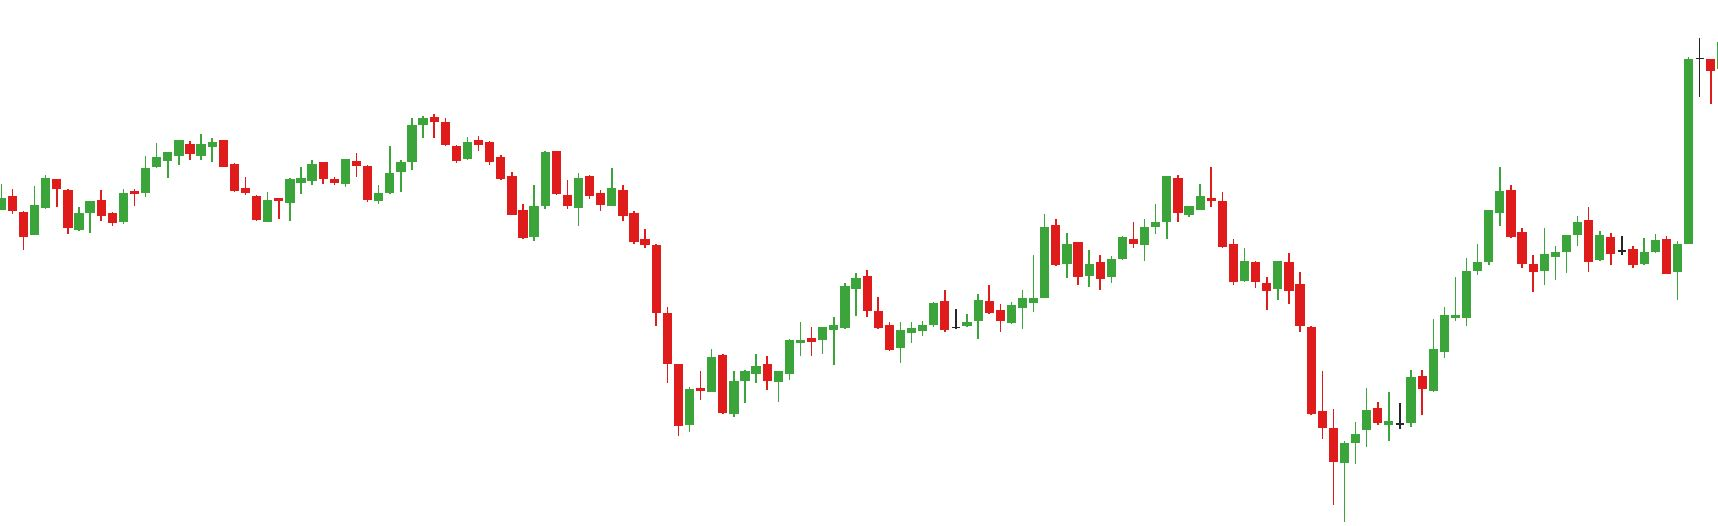sell: (1159, 164, 1218, 218)
